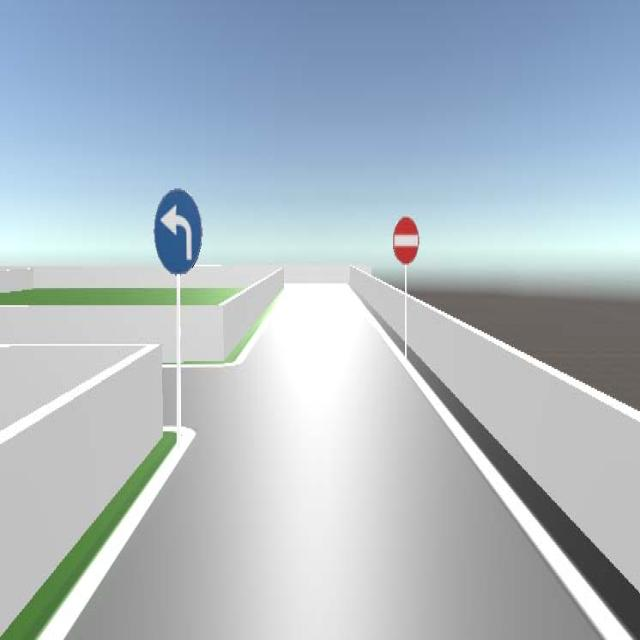girisyok: (393, 216, 419, 265)
sol: (154, 188, 202, 274)
